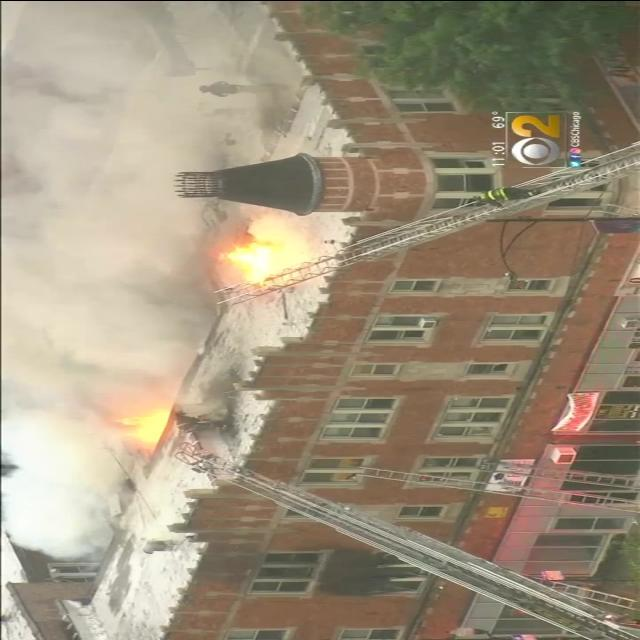Fire: (216, 209, 312, 295), (106, 391, 178, 457)
